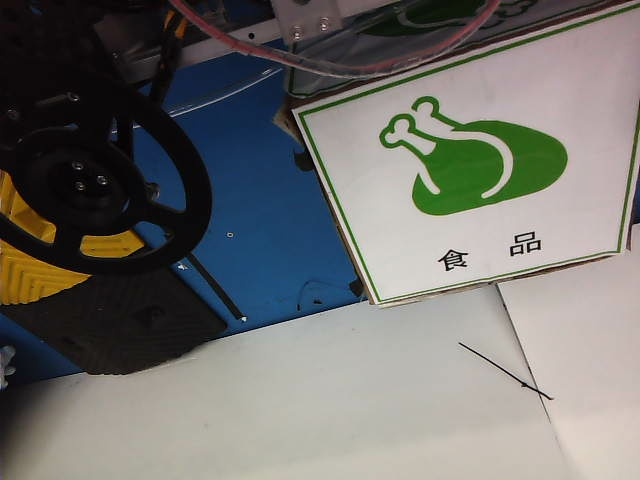Cube_food: (366, 87, 586, 275)
